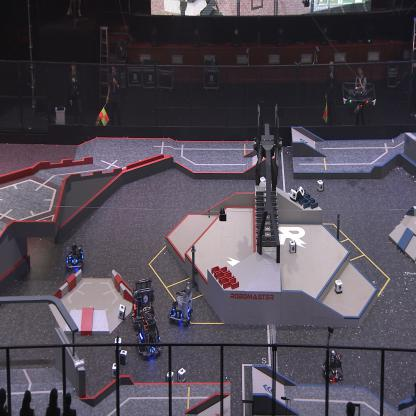car: (130, 276, 156, 328), (135, 306, 162, 356), (168, 280, 194, 326), (322, 348, 344, 381), (64, 241, 84, 272)
